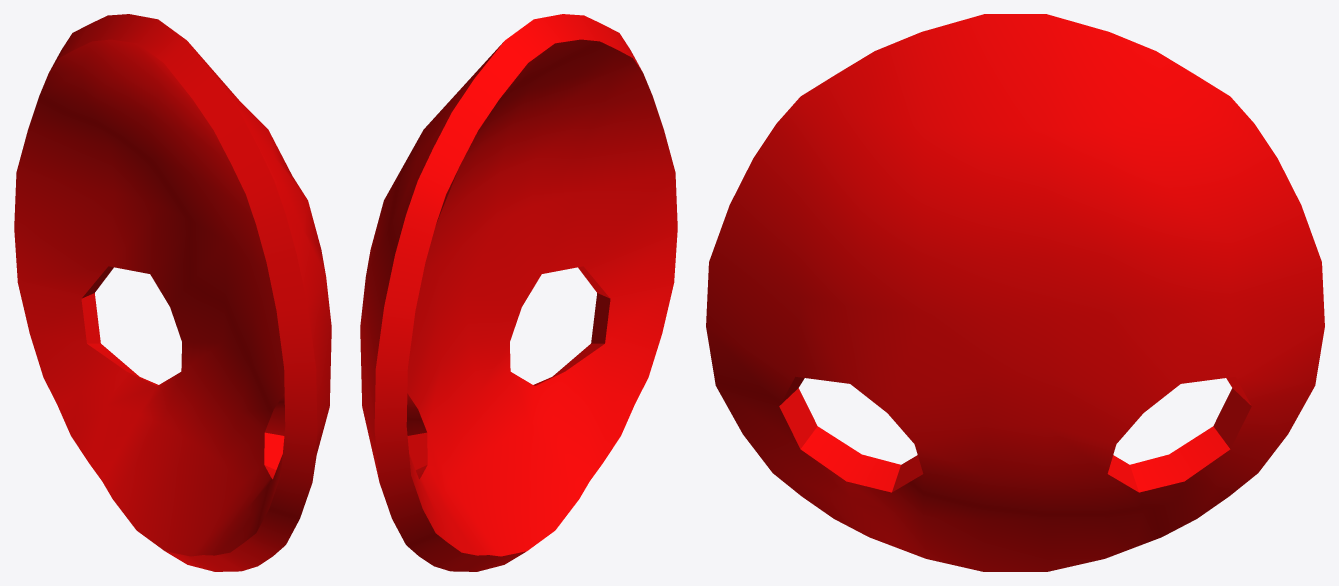
File: round_mask.fbx
3 renders of one model, left to right at view 1: azimuth 30°, elevation 25°; view 2: azimuth 150°, elevation 25°; view 3: azimuth 270°, elevation 25°, orthographic. The views are drawn at different scales.
Visible parts, largest first — view 1: circle; view 2: circle; view 3: circle.
Part boxes in pixels (x1,y1,x2,y2): circle: (14,14,331,571); circle: (360,14,677,571); circle: (706,14,1324,571).
Size of the model in its own units: 46.18 by 196 by 197.
